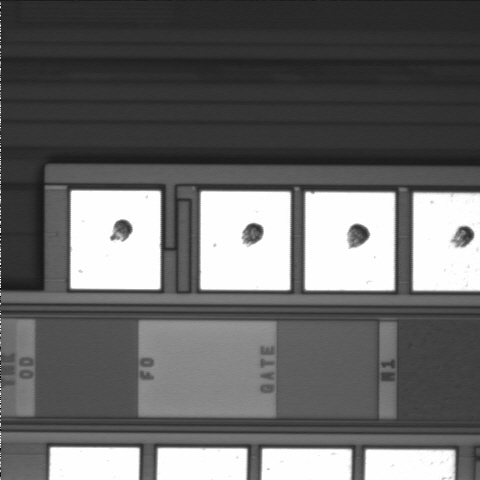pad: (200, 191, 290, 290), (71, 191, 161, 289), (305, 192, 395, 290)
